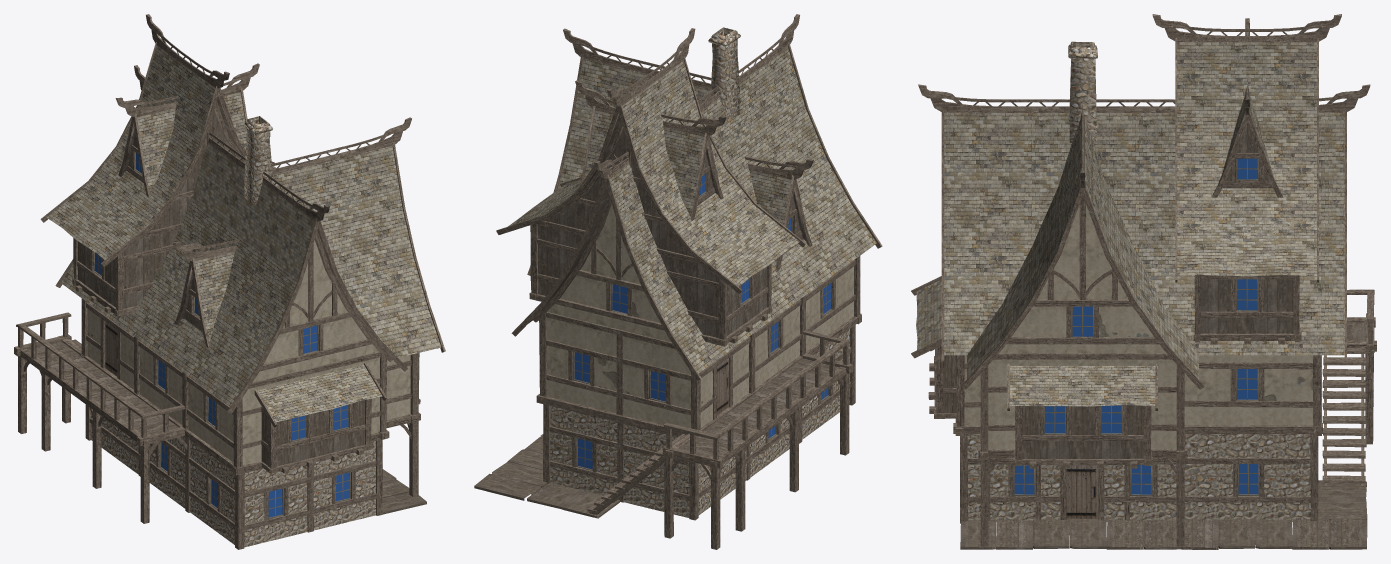
File: mw_type_2_cottage_07_LOD1.FBX
3 views of the same model, side by side, from view 1: azimuth 30°, elevation 25°; view 2: azimuth 150°, elevation 25°; view 3: azimuth 270°, elevation 25° (orthographic). The views are drawn at different scales.
Parts seen in each view (by area): view 1: mw_type_2_cottage_building_07_roof, mw_type_2_cottage_building_07_wood, mw_type_2_cottage_building_07_stone, mw_type_2_cottage_building_07_wall, mw_type_2_cottage_building_07, mw_type_2_cottage_building_07_wood_02; view 2: mw_type_2_cottage_building_07_wood, mw_type_2_cottage_building_07_roof, mw_type_2_cottage_building_07_wall, mw_type_2_cottage_building_07_stone, mw_type_2_cottage_building_07_wood_02, mw_type_2_cottage_building_07; view 3: mw_type_2_cottage_building_07_roof, mw_type_2_cottage_building_07_wood, mw_type_2_cottage_building_07_wall, mw_type_2_cottage_building_07_stone, mw_type_2_cottage_building_07_wood_02, mw_type_2_cottage_building_07.
Part boxes in pixels (x1,y1,x2,y2): mw_type_2_cottage_building_07_roof: (47,45,441,422); mw_type_2_cottage_building_07_wood: (14,14,445,549); mw_type_2_cottage_building_07_stone: (91,116,375,547); mw_type_2_cottage_building_07_wall: (87,240,410,465); mw_type_2_cottage_building_07: (93,152,350,518); mw_type_2_cottage_building_07_wood_02: (382,469,426,514); mw_type_2_cottage_building_07_wood: (496,14,882,549); mw_type_2_cottage_building_07_roof: (508,47,876,373); mw_type_2_cottage_building_07_wall: (547,204,853,428); mw_type_2_cottage_building_07_stone: (550,27,849,517); mw_type_2_cottage_building_07_wood_02: (474,434,619,518); mw_type_2_cottage_building_07: (573,173,832,470); mw_type_2_cottage_building_07_roof: (916,42,1344,406); mw_type_2_cottage_building_07_wood: (911,14,1376,546); mw_type_2_cottage_building_07_wall: (964,205,1312,449); mw_type_2_cottage_building_07_stone: (967,41,1310,521); mw_type_2_cottage_building_07_wood_02: (960,480,1367,549); mw_type_2_cottage_building_07: (1013,158,1259,519).
Size of the model in its own units: 1553 by 2173 by 1959.
